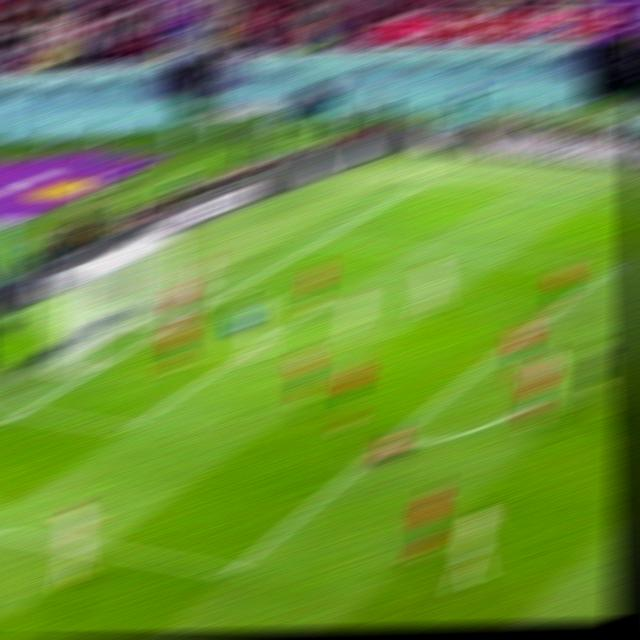bigarea_bottom_inner: (219, 565, 244, 581)
bigarea_top_inner: (589, 264, 618, 278)
bigarea_top_outter: (313, 239, 331, 244)
corner: (409, 184, 436, 186)
smallarea_bottom_inner: (112, 421, 143, 439)
smallarea_bottom_outter: (9, 410, 33, 417)
smallarea_top_outter: (214, 293, 237, 299)
top_arc_area_intersection: (503, 339, 524, 348)
